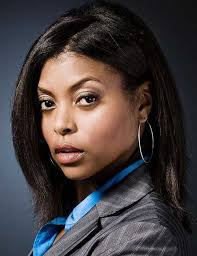black_female: (30, 10, 173, 183)
